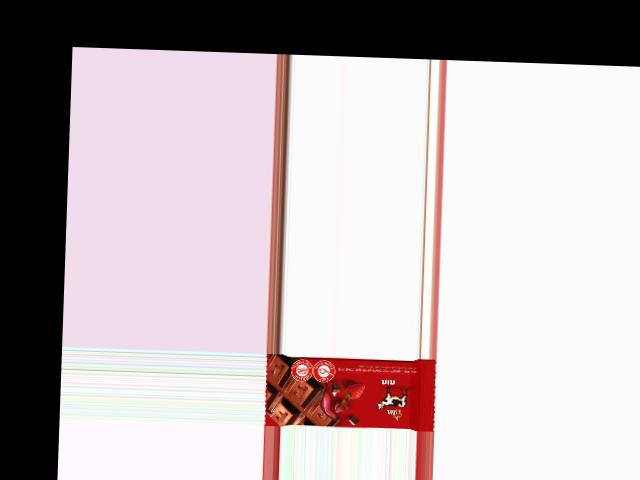chocolate: (266, 353, 437, 431)
